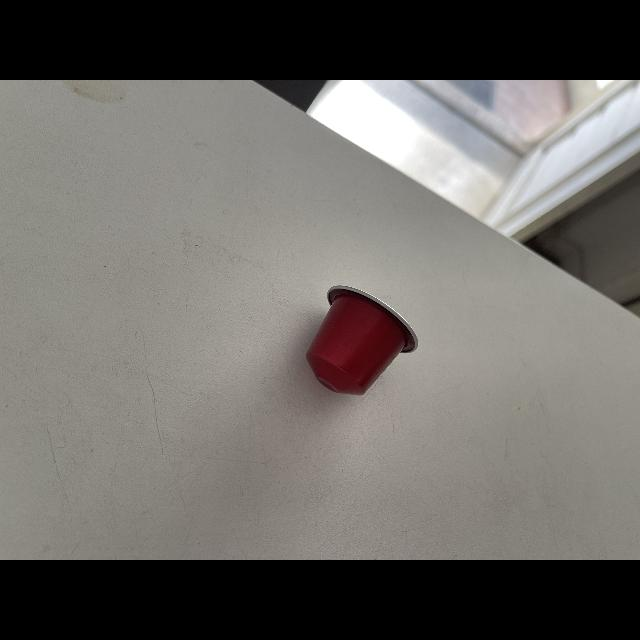intact_capsule: (298, 275, 424, 405)
